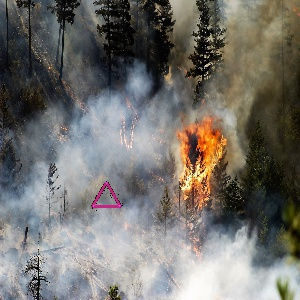triangle: (90, 180, 123, 209)
